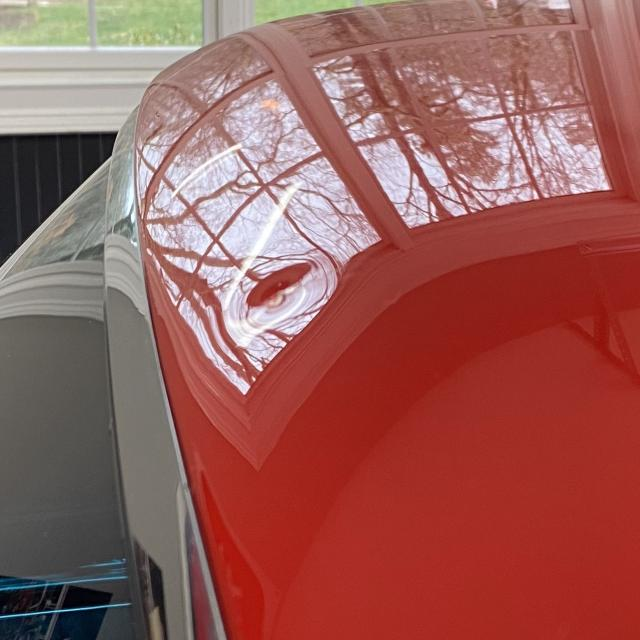dent: (241, 247, 321, 327)
